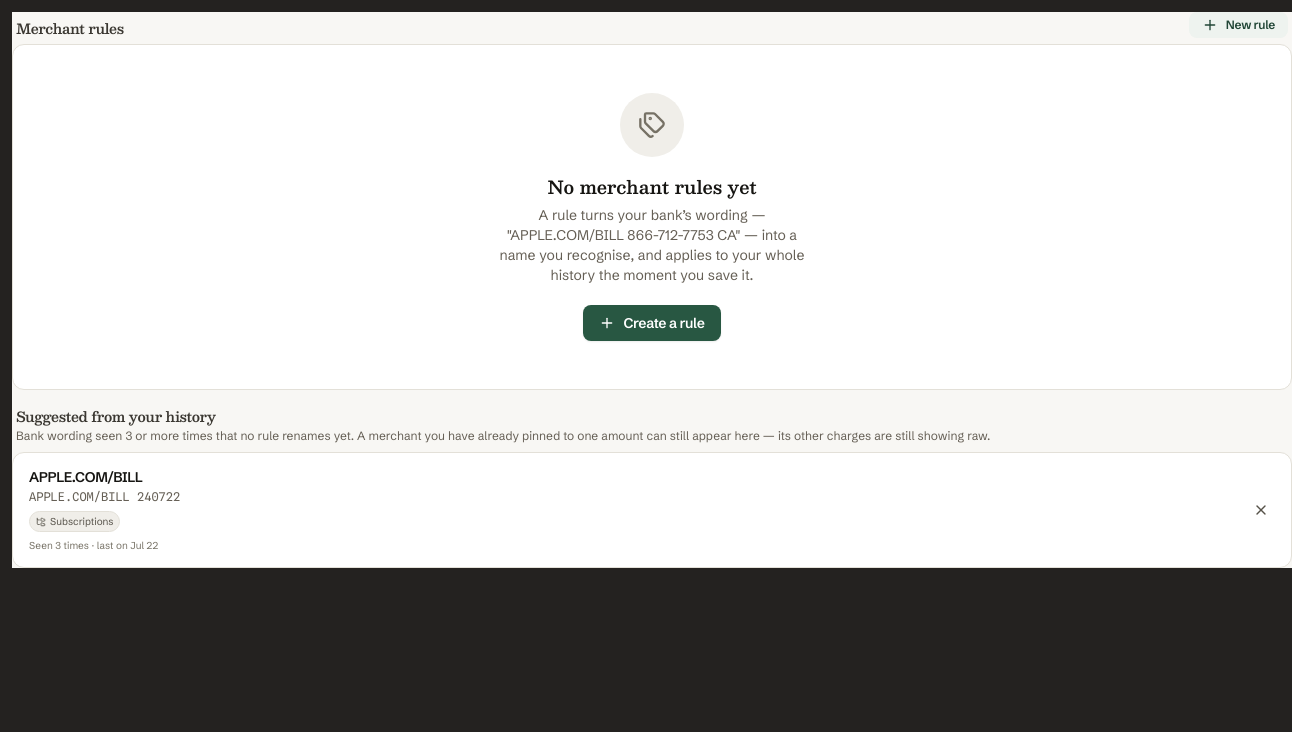
Test: MerchantRulesCard › suggestions › hides a dismissed suggestion, and keeps it hidden across a remount
Click the button named "Dismiss the suggestion for APPLE.COM/BILL".
click(1261, 510)  # box [1239,488,1283,532]
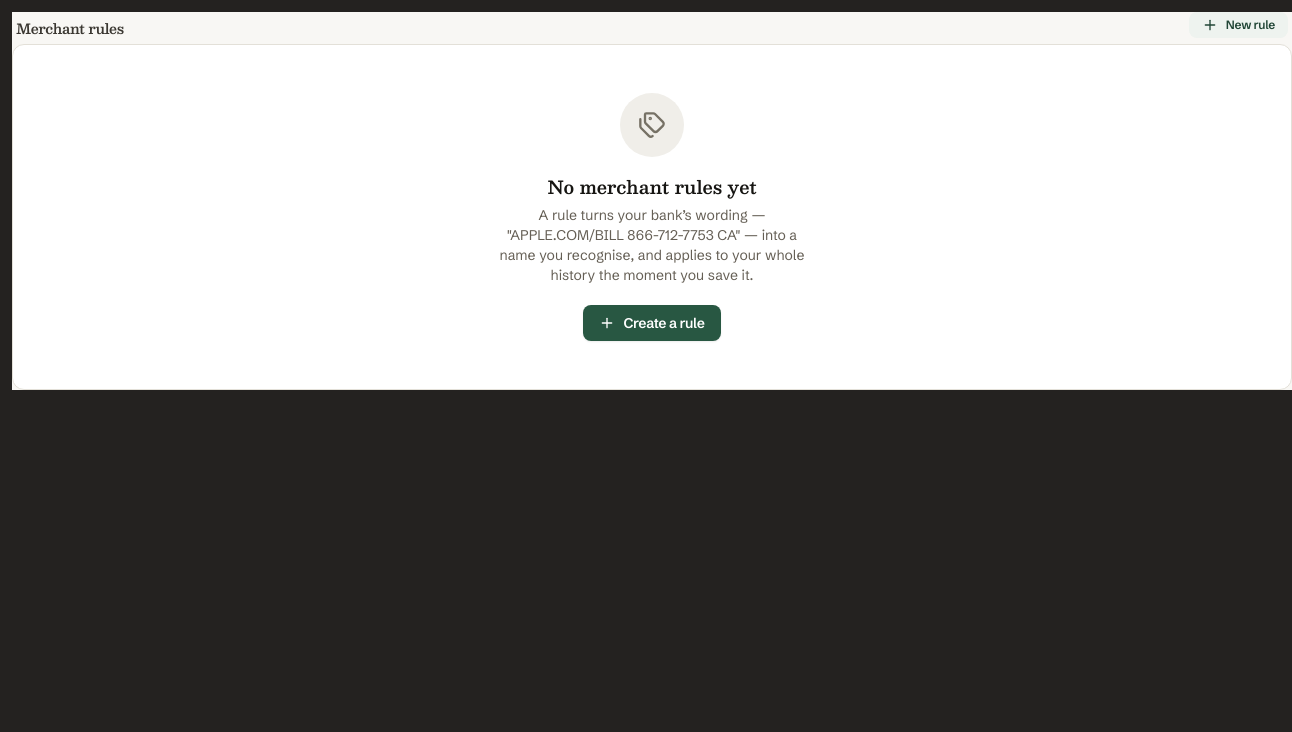
Now the heading "Suggested from your history" is gone
